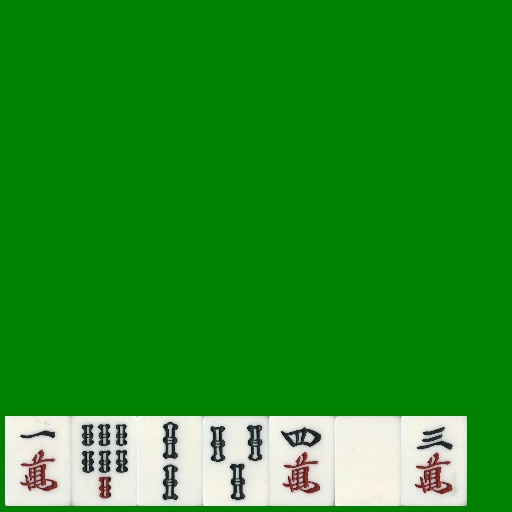1m: (5, 416, 71, 506)
2s: (137, 416, 203, 506)
3m: (401, 416, 467, 506)
3s: (203, 416, 269, 506)
4m: (269, 416, 335, 506)
7s: (71, 416, 137, 506)
white: (335, 416, 401, 506)
